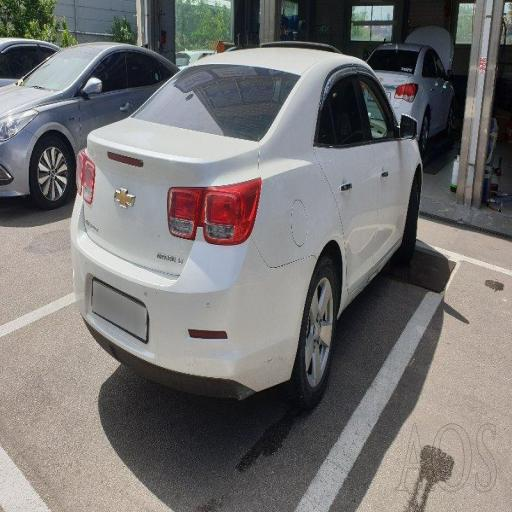normal: (70, 32, 428, 399)
